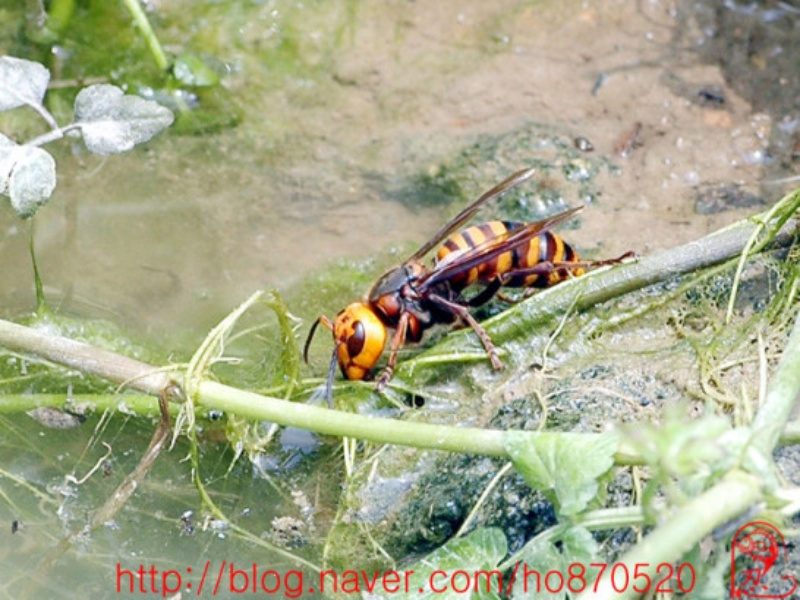asian_giant_hornet: (319, 216, 590, 393)
